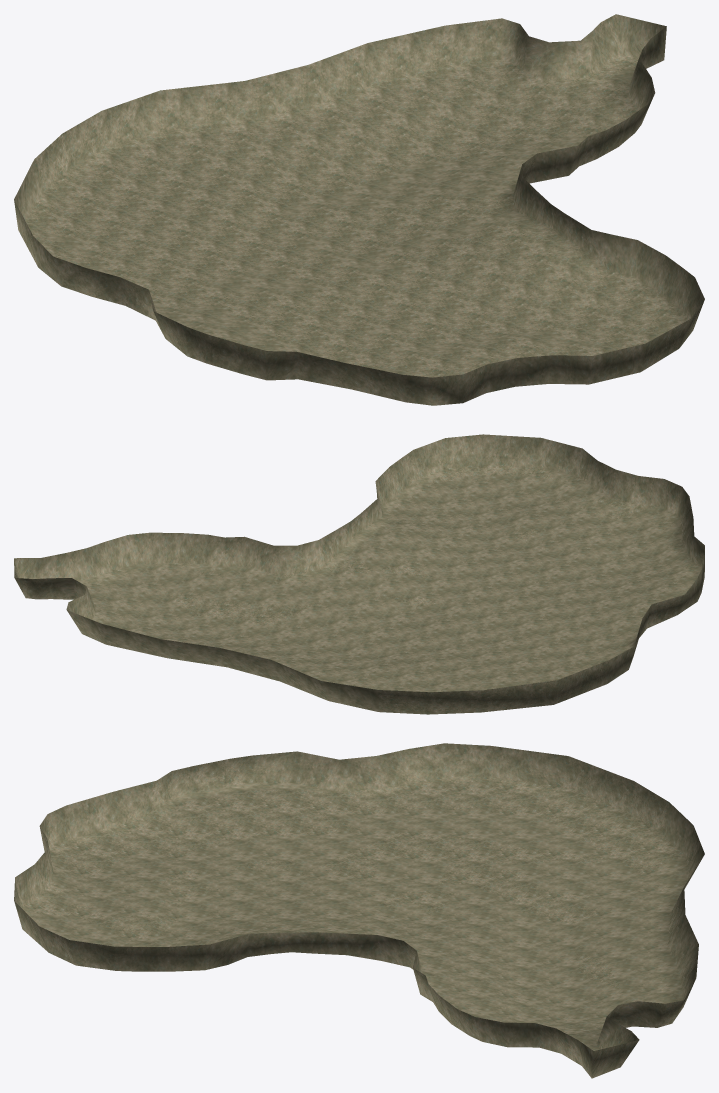
The model's file is OVERHILL_A_01_OBJECT207.fbx.
The picture shows the model from 3 angles, top to bottom: view 1: azimuth 30°, elevation 25°; view 2: azimuth 150°, elevation 25°; view 3: azimuth 270°, elevation 25°; orthographic projection. The views are drawn at different scales.
Parts seen in each view (by area): view 1: OVERHILL_A_01_OBJECT207; view 2: OVERHILL_A_01_OBJECT207; view 3: OVERHILL_A_01_OBJECT207.
Boxes of the visible parts, x1,y1,x2,y2 form: OVERHILL_A_01_OBJECT207: [14, 14, 704, 405]; OVERHILL_A_01_OBJECT207: [14, 434, 704, 714]; OVERHILL_A_01_OBJECT207: [14, 743, 704, 1078].
Size of the model in its own units: 308898 by 23443 by 292802.
2 materials, 2 textured.
